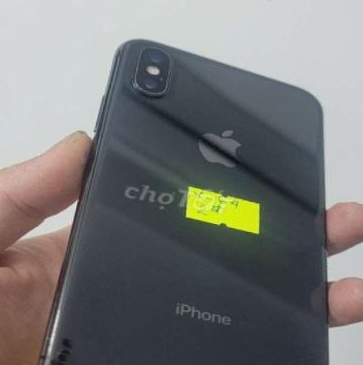physical_damage: (153, 306, 343, 365)
scratch: (34, 327, 107, 365)
